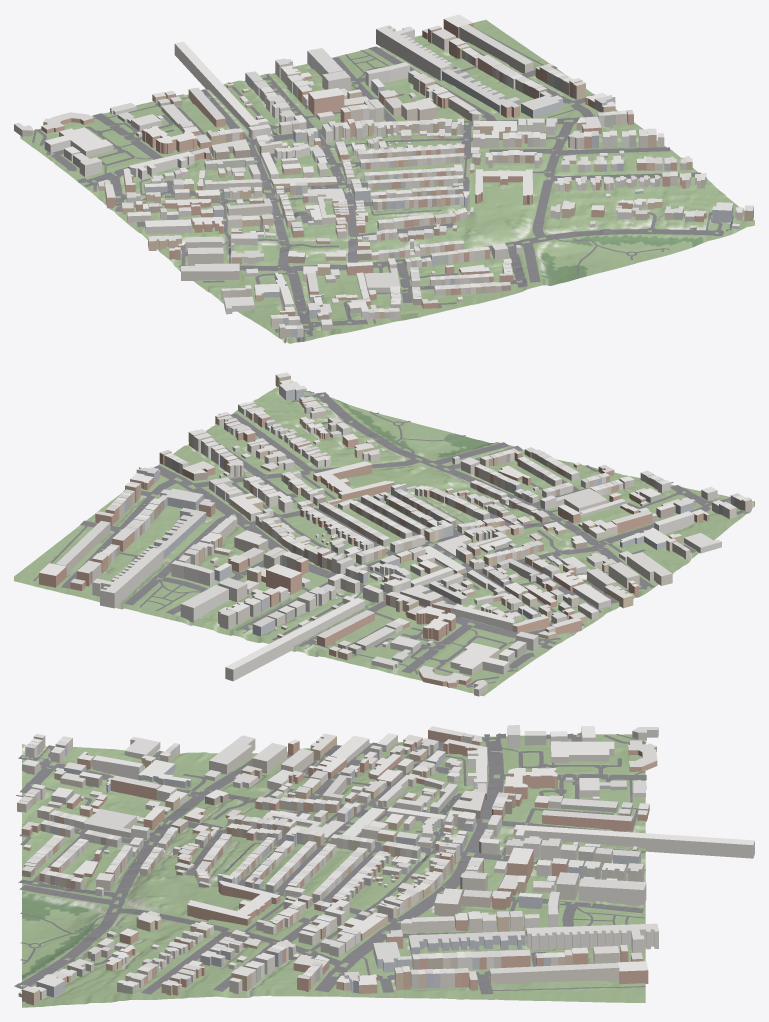
3 views of the same model, one above another, from view 1: azimuth 30°, elevation 25°; view 2: azimuth 150°, elevation 25°; view 3: azimuth 270°, elevation 25° (orthographic). The views are drawn at different scales.
Parts seen in each view (by area): view 1: prim1, prim0, prim2; view 2: prim1, prim0, prim2; view 3: prim1, prim0, prim2.
Part boxes in pixels (left/top/right/bottom): prim1: left=14, top=14, right=753, bottom=338; prim0: left=20, top=20, right=754, bottom=343; prim2: left=32, top=28, right=733, bottom=336; prim1: left=39, top=372, right=751, bottom=696; prim0: left=14, top=386, right=754, bottom=696; prim2: left=33, top=391, right=744, bottom=687; prim1: left=17, top=725, right=754, bottom=1005; prim0: left=22, top=734, right=645, bottom=1007; prim2: left=14, top=732, right=646, bottom=994.
Bounding box in the file's own units: 533 × 41.92 × 608.
